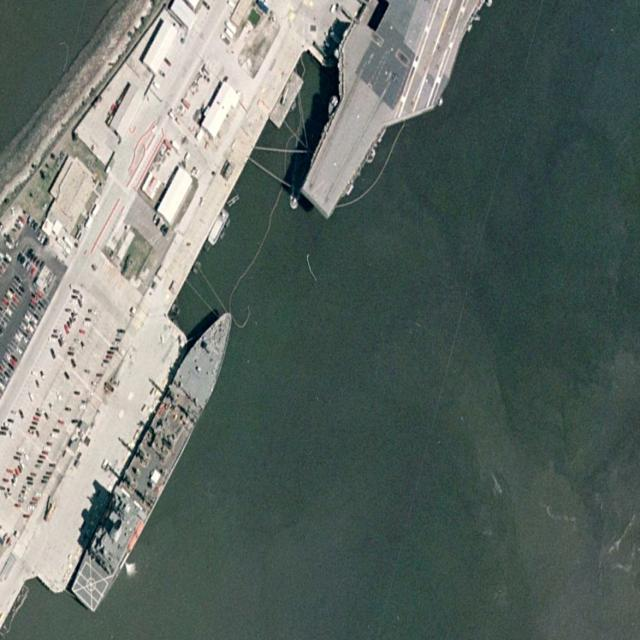Aircraft Carrier: (281, 1, 483, 256)
Commander: (67, 296, 246, 618)
